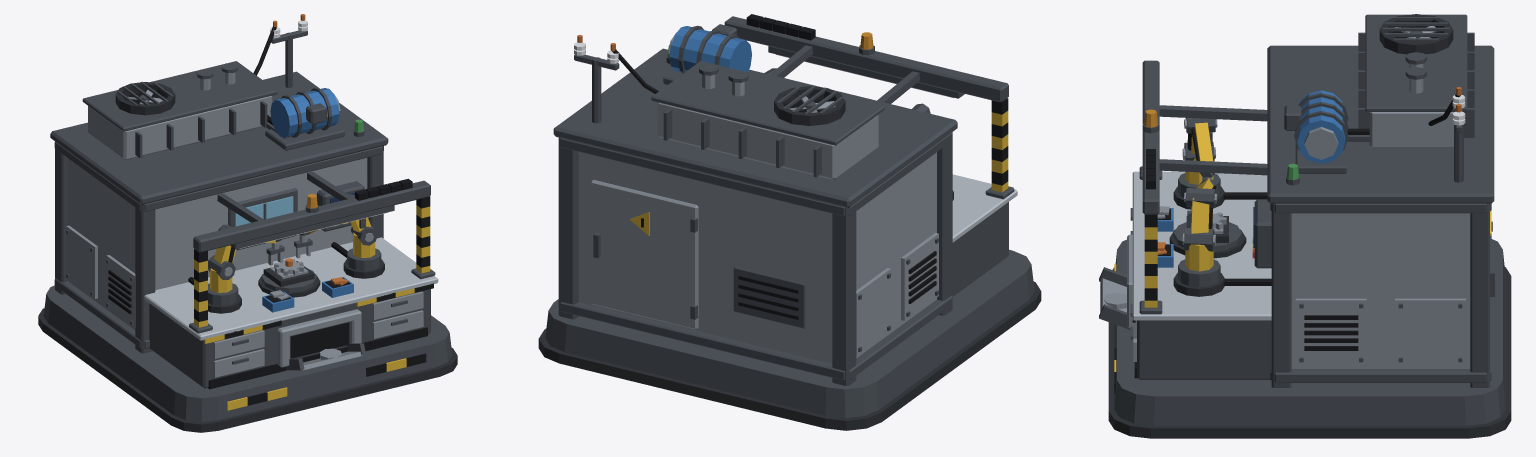
Rendered from assembleur_t2.glb.
The picture shows the model from 3 angles, left to right: view 1: azimuth 30°, elevation 25°; view 2: azimuth 150°, elevation 25°; view 3: azimuth 270°, elevation 25°; orthographic projection. The views are drawn at different scales.
Parts seen in each view (by area): view 1: pieces_acier_sombre.015, socle.002, caisson.002, caisson_toit.002, etabli_plateau.002, pieces_acier.015, pieces_noir.015, etabli.002, socle_plinthe.002, transformateur_toit.002, transformateur.002, pieces_jaune.015 (+15 smaller); view 2: pieces_acier_sombre.015, caisson.002, socle.002, caisson_toit.002, armoire_porte.002, socle_plinthe.002, transformateur_toit.002, transformateur.002, pieces_acier.015, pieces_noir.015, etabli.002, moteur.002 (+3 smaller); view 3: pieces_acier_sombre.015, socle.002, caisson_toit.002, caisson.002, etabli_plateau.002, pieces_acier.015, etabli.002, socle_plinthe.002, transformateur_toit.002, pieces_noir.015, transformateur.002, bras2_acier_sombre.002 (+13 smaller).
Part boxes in pixels (x1=…): pieces_acier_sombre.015: x1=54, y1=30, x2=435, y2=370; socle.002: x1=43, y1=285, x2=452, y2=422; caisson.002: x1=68, y1=158, x2=367, y2=329; caisson_toit.002: x1=50, y1=71, x2=388, y2=204; etabli_plateau.002: x1=144, y1=237, x2=438, y2=340; pieces_acier.015: x1=66, y1=72, x2=423, y2=377; pieces_noir.015: x1=108, y1=26, x2=433, y2=405; etabli.002: x1=149, y1=289, x2=430, y2=388; socle_plinthe.002: x1=38, y1=308, x2=457, y2=432; transformateur_toit.002: x1=82, y1=61, x2=277, y2=131; transformateur.002: x1=88, y1=95, x2=272, y2=160; pieces_jaune.015: x1=194, y1=205, x2=430, y2=410; pieces_acier_sombre.015: x1=558, y1=16, x2=1014, y2=385; caisson.002: x1=578, y1=152, x2=936, y2=363; socle.002: x1=545, y1=249, x2=1034, y2=417; caisson_toit.002: x1=553, y1=48, x2=957, y2=207; armoire_porte.002: x1=591, y1=180, x2=698, y2=329; socle_plinthe.002: x1=538, y1=281, x2=1041, y2=430; transformateur_toit.002: x1=651, y1=61, x2=884, y2=145; transformateur.002: x1=657, y1=102, x2=878, y2=179; pieces_acier.015: x1=702, y1=74, x2=938, y2=355; pieces_noir.015: x1=612, y1=14, x2=1008, y2=319; etabli.002: x1=952, y1=202, x2=1008, y2=296; moteur.002: x1=669, y1=26, x2=751, y2=72; pieces_acier_sombre.015: x1=1099, y1=17, x2=1494, y2=387; socle.002: x1=1114, y1=239, x2=1505, y2=425; caisson_toit.002: x1=1267, y1=45, x2=1494, y2=203; caisson.002: x1=1291, y1=213, x2=1470, y2=383; etabli_plateau.002: x1=1132, y1=171, x2=1271, y2=320; pieces_acier.015: x1=1100, y1=63, x2=1465, y2=364; etabli.002: x1=1137, y1=320, x2=1271, y2=379; socle_plinthe.002: x1=1108, y1=267, x2=1511, y2=438; transformateur_toit.002: x1=1365, y1=14, x2=1467, y2=111; pieces_noir.015: x1=1114, y1=26, x2=1492, y2=394; transformateur.002: x1=1369, y1=112, x2=1453, y2=148; bras2_acier_sombre.002: x1=1178, y1=178, x2=1220, y2=287.
Size of the model in its own units: 2 by 1.66 by 2.
